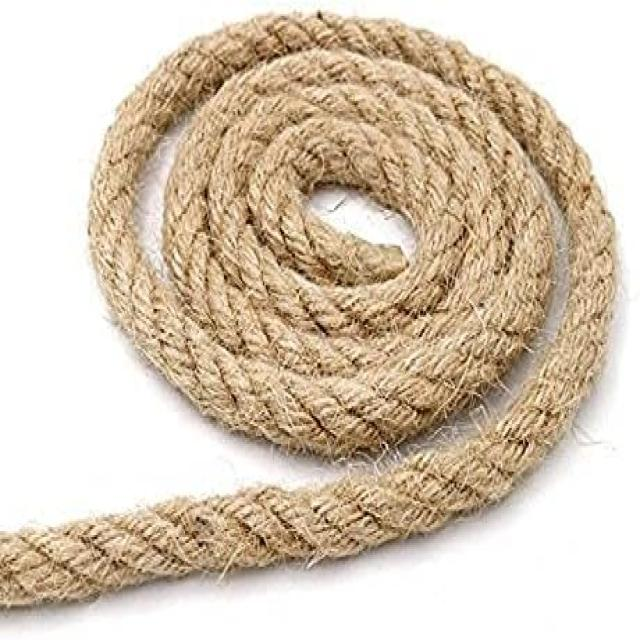Rope: (2, 2, 620, 640)
